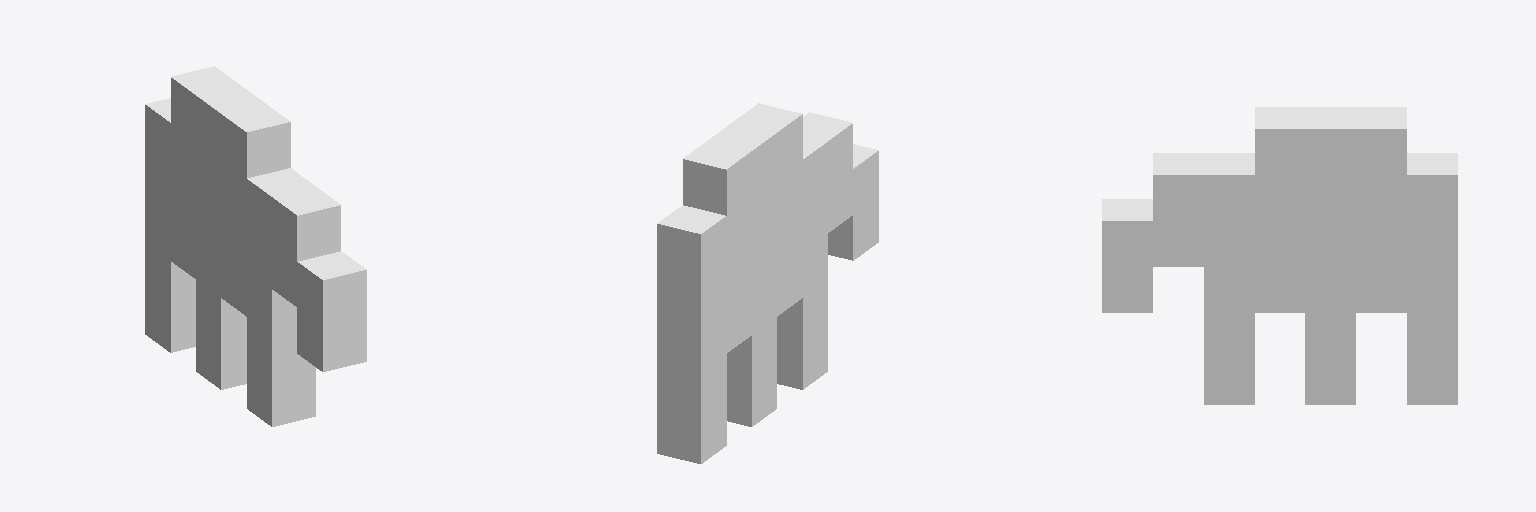
The model's file is gglive_main_hand.obj.
3 views of the same model, side by side, from view 1: azimuth 30°, elevation 25°; view 2: azimuth 150°, elevation 25°; view 3: azimuth 270°, elevation 25° (orthographic).
Visible parts, largest first — view 1: gglive_main_hand; view 2: gglive_main_hand; view 3: gglive_main_hand.
Boxes of the visible parts, <box> form: gglive_main_hand: <box>145,66,366,426</box>; gglive_main_hand: <box>657,103,878,463</box>; gglive_main_hand: <box>1102,107,1457,404</box>.
Bounding box in the file's own units: 1 × 6 × 7.